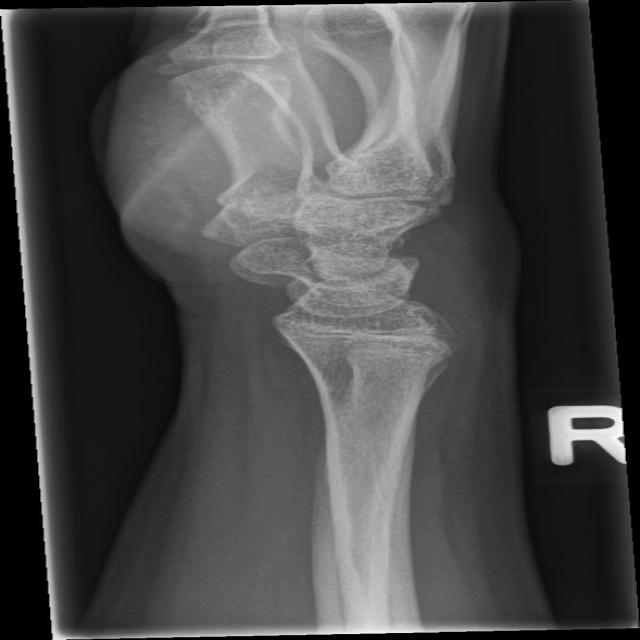fracture: (259, 314, 493, 376)
